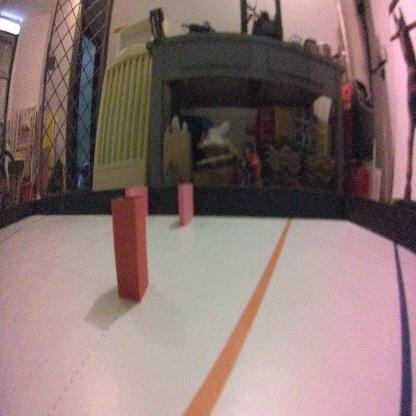magenta: (178, 176, 194, 225)
red: (110, 189, 151, 309)
